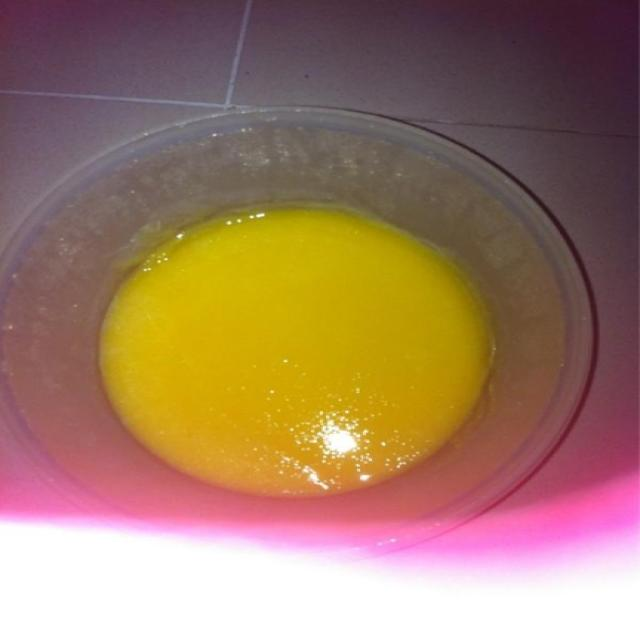蛋糕甜品: (12, 90, 587, 549)
